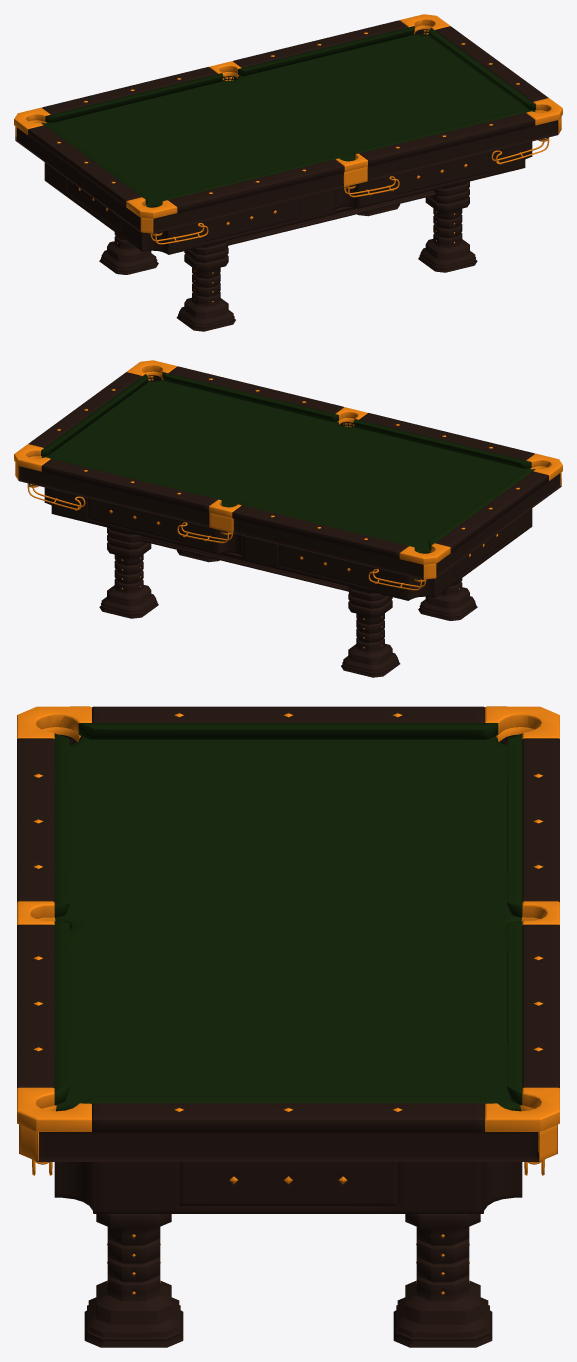
The model's file is Mesa.obj.
3 views of the same model, one above another, from view 1: azimuth 30°, elevation 25°; view 2: azimuth 150°, elevation 25°; view 3: azimuth 270°, elevation 25° (orthographic). The views are drawn at different scales.
Visible parts, largest first — view 1: Billiard_Table_Fabric; view 2: Billiard_Table_Fabric; view 3: Billiard_Table_Fabric.
Part boxes in pixels (left/top/right/bottom): Billiard_Table_Fabric: left=14, top=14, right=562, bottom=331; Billiard_Table_Fabric: left=14, top=360, right=562, bottom=677; Billiard_Table_Fabric: left=17, top=706, right=559, bottom=1347.
Bounding box in the file's own units: 2.43 × 0.8164 × 1.35.
